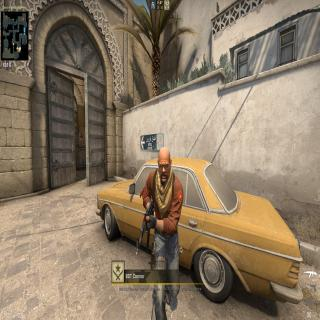T-Head: (156, 143, 173, 183)
